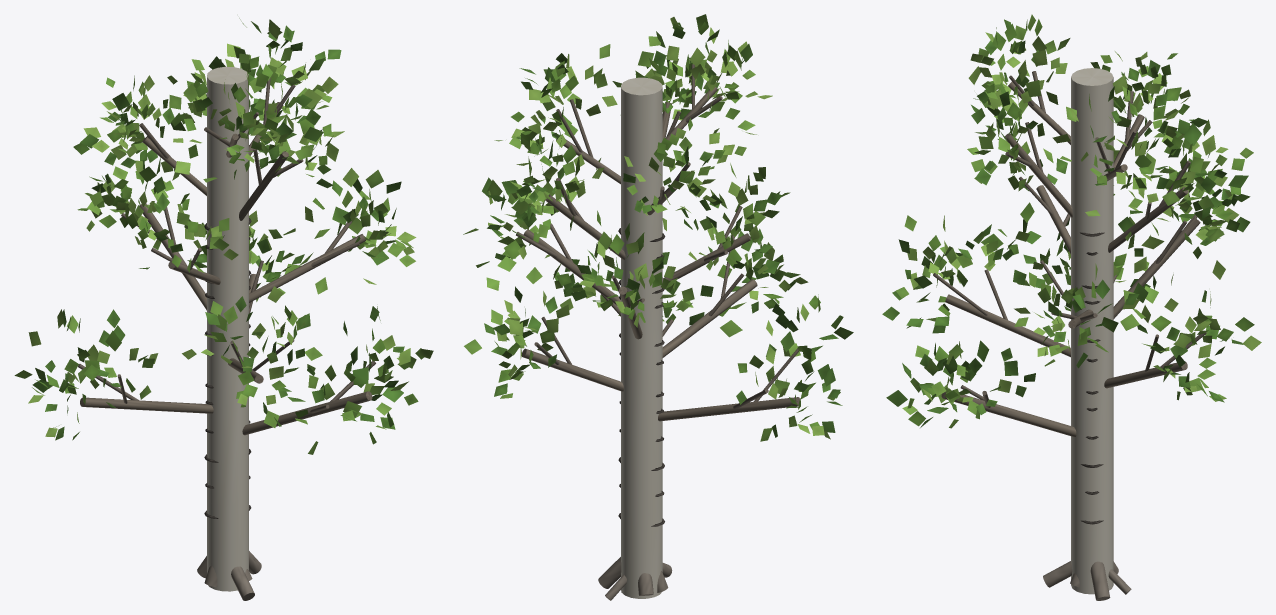
File: standard-lod0.glb
The picture shows the model from 3 angles, left to right: view 1: azimuth 30°, elevation 25°; view 2: azimuth 150°, elevation 25°; view 3: azimuth 270°, elevation 25°; orthographic projection.
Visible parts, largest first — view 1: birch-bifurcated-twigs-and-leaves, birch-bark-branches-buried-roots-ground-blend; view 2: birch-bifurcated-twigs-and-leaves, birch-bark-branches-buried-roots-ground-blend; view 3: birch-bifurcated-twigs-and-leaves, birch-bark-branches-buried-roots-ground-blend.
Boxes of the visible parts, bbox=[...] form: birch-bifurcated-twigs-and-leaves: bbox=[14, 18, 433, 454]; birch-bark-branches-buried-roots-ground-blend: bbox=[78, 66, 375, 600]; birch-bifurcated-twigs-and-leaves: bbox=[463, 14, 853, 441]; birch-bark-branches-buried-roots-ground-blend: bbox=[516, 64, 799, 600]; birch-bifurcated-twigs-and-leaves: bbox=[882, 14, 1261, 428]; birch-bark-branches-buried-roots-ground-blend: bbox=[933, 68, 1206, 600].
Bounding box in the file's own units: 12.02 × 17.37 × 10.81.
